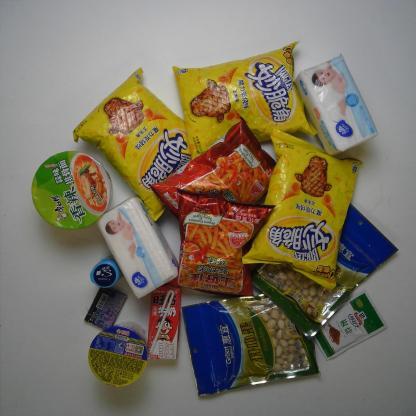Dried Fruit: (250, 202, 400, 339), (180, 292, 322, 397)
Gum: (83, 287, 128, 330), (89, 255, 124, 289)
Instant Noodles: (30, 150, 114, 230), (88, 320, 148, 388)
Milk: (147, 285, 182, 361)
Puffed Food: (241, 129, 365, 293), (71, 66, 193, 222), (171, 39, 320, 163), (147, 115, 278, 223), (164, 188, 276, 297)
Seasoner: (314, 290, 388, 362)
Tissue: (95, 196, 180, 300), (294, 53, 378, 157)
